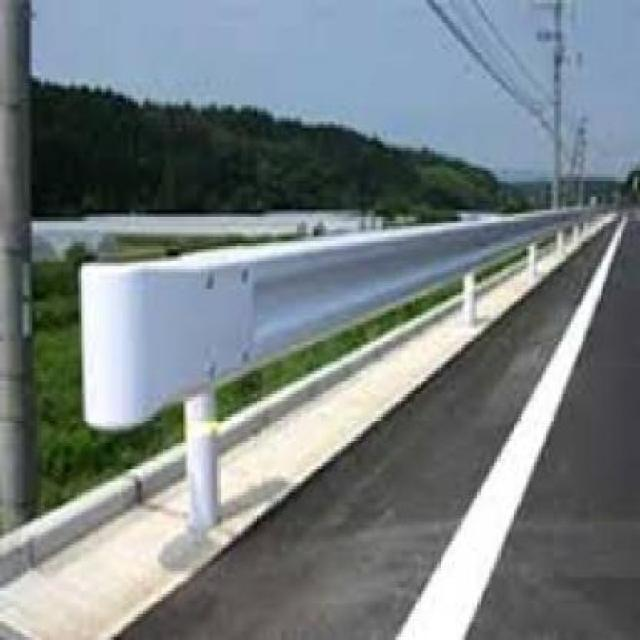Guard rail: (74, 191, 606, 558)
